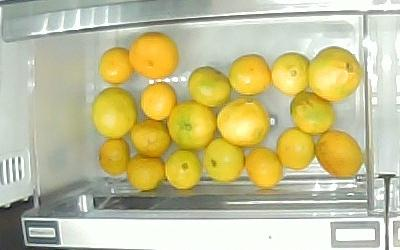tangerine: (309, 46, 361, 101), (217, 97, 269, 146), (168, 101, 216, 150), (315, 130, 363, 178), (92, 87, 137, 138), (129, 33, 178, 78), (203, 139, 246, 184), (290, 92, 333, 134), (187, 66, 230, 107), (276, 127, 316, 170), (230, 54, 271, 95), (272, 52, 309, 95), (246, 148, 285, 188), (165, 150, 204, 189), (130, 120, 171, 157), (140, 83, 177, 121), (99, 47, 135, 84), (129, 156, 166, 192), (98, 138, 130, 176)
